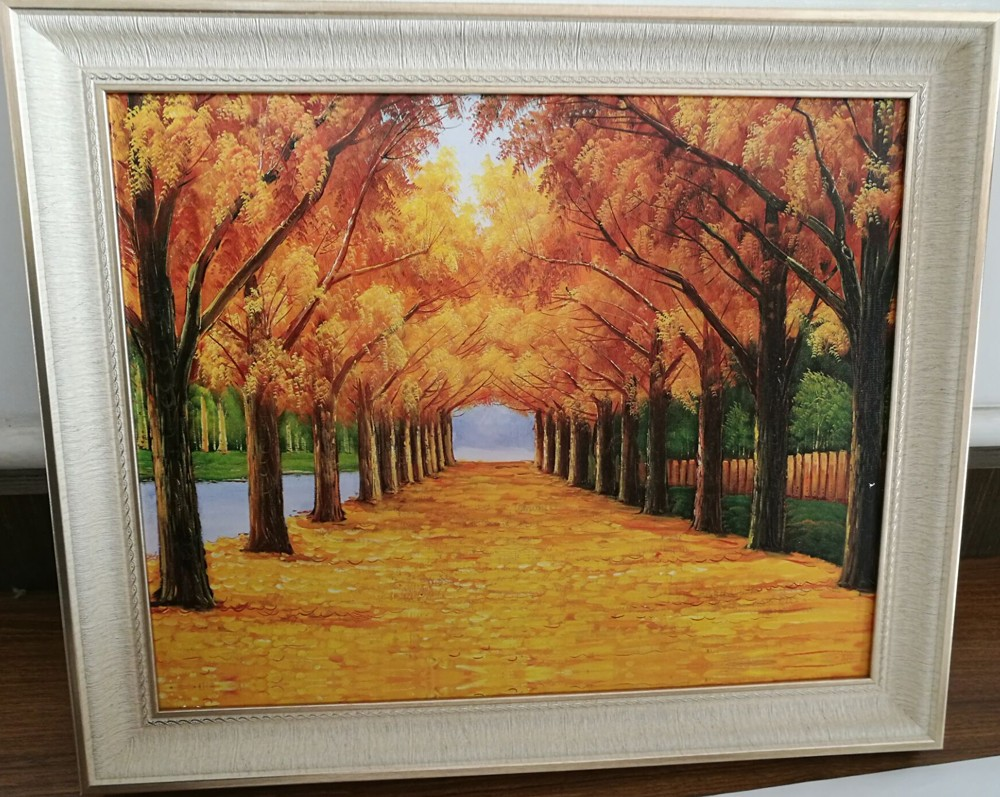lukisan: (35, 21, 958, 768)
